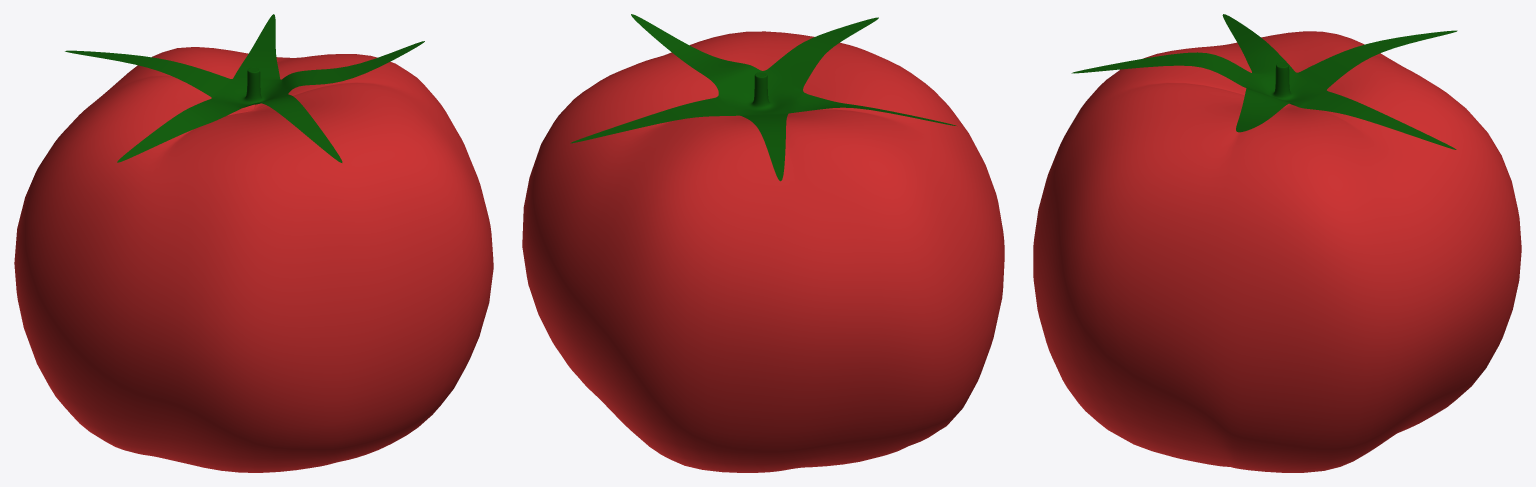
File: tomato.fbx
The picture shows the model from 3 angles, left to right: view 1: azimuth 30°, elevation 25°; view 2: azimuth 150°, elevation 25°; view 3: azimuth 270°, elevation 25°; orthographic projection. The views are drawn at different scales.
Visible parts, largest first — view 1: tomato, tomato.leaf.001; view 2: tomato, tomato.leaf.001; view 3: tomato, tomato.leaf.001.
Part boxes in pixels (x1,y1,x2,y2): tomato: (14,47,493,472); tomato.leaf.001: (65,14,424,162); tomato: (522,31,1004,472); tomato.leaf.001: (570,14,956,181); tomato: (1033,31,1521,472); tomato.leaf.001: (1071,14,1457,149).
Size of the model in its own units: 215 by 172 by 212.
